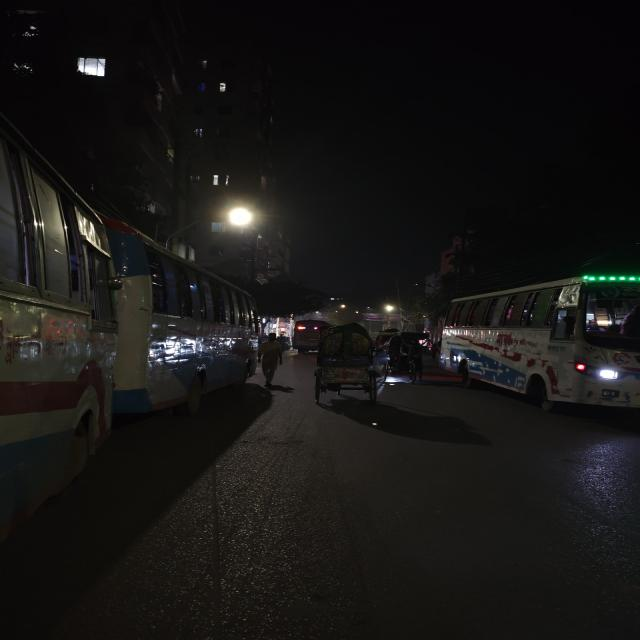bus: (0, 238, 266, 438), (434, 272, 640, 420), (291, 318, 333, 353)
pedestrian: (256, 334, 287, 387)
rickshaw: (309, 322, 384, 404), (376, 320, 428, 394)
